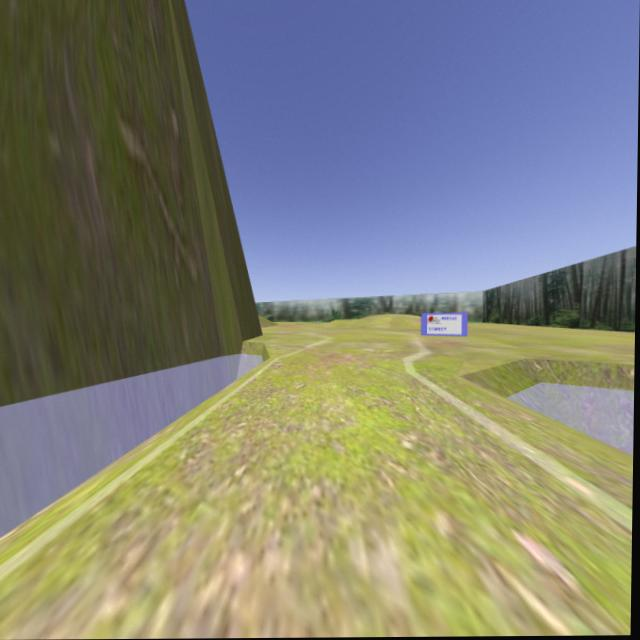clueboard: (419, 312, 468, 337)
